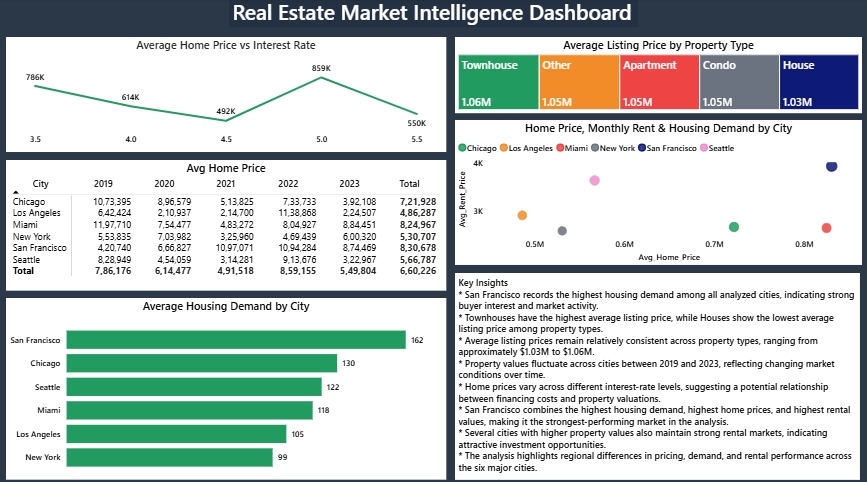

The dashboard page shown, as its layout file describes it:
{"tool":"powerbi","page":{"name":"Market Trends & Demand Analysis","canvas":[1280,720],"ordinal":1},"visuals":[{"type":"lineChart","title":"Average Home Price vs Interest Rate","fields":{"Y":["Properties_transactions.Avg_Home_Price"],"Category":["Market_trends.Interest_Rate"]},"box":[11.8,57.3,646.5,169],"z":0},{"type":"treemap","title":"Average Listing Price by Property Type","fields":{"Group":["Properties_transactions.Type"],"Values":["Properties_transactions.Avg_Listing_Price"]},"box":[671.5,57.3,598,111.7],"z":1000},{"type":"pivotTable","title":"Avg Home Price","fields":{"Rows":["Market_trends.City"],"Columns":["Market_trends.Year"],"Values":["Avg(Market_trends.Avg_Home_Price)"]},"box":[11.8,238,646.5,192.5],"z":2000},{"type":"clusteredBarChart","title":"Average Housing Demand by City","fields":{"Y":["Properties_transactions.Avg_Housing_Demand"],"Category":["Market_trends.City"]},"box":[11.8,440.8,646.5,267.4],"z":3000},{"type":"scatterChart","title":"Home Price, Monthly Rent & Housing Demand by City","fields":{"X":["Properties_transactions.Avg_Home_Price"],"Y":["Properties_transactions.Avg_Rent_Price"],"Series":["Market_trends.City"],"Size":["Sum(Market_trends.Housing_Demand_Index)"]},"box":[671.5,179.3,598,213.1],"z":4000},{"type":"textbox","box":[671.5,404.1,595.1,304.2],"z":5000},{"type":"textbox","title":"Real Estate Market Intelligence Dashboard","box":[339.5,0,601,42.6],"z":5001}]}

Visuals, with their boxes in screenshot pixels (x1, y1, x2, y2), scaled from the page's 1280x720 canvas onto the 867x482 screenshot:
"Average Home Price vs Interest Rate" lineChart: [x1=8, y1=38, x2=446, y2=151]
"Average Listing Price by Property Type" treemap: [x1=455, y1=38, x2=860, y2=113]
"Avg Home Price" pivotTable: [x1=8, y1=159, x2=446, y2=288]
"Average Housing Demand by City" clusteredBarChart: [x1=8, y1=295, x2=446, y2=474]
"Home Price, Monthly Rent & Housing Demand by City" scatterChart: [x1=455, y1=120, x2=860, y2=263]
textbox: [x1=455, y1=271, x2=858, y2=474]
"Real Estate Market Intelligence Dashboard" textbox: [x1=230, y1=0, x2=637, y2=29]
